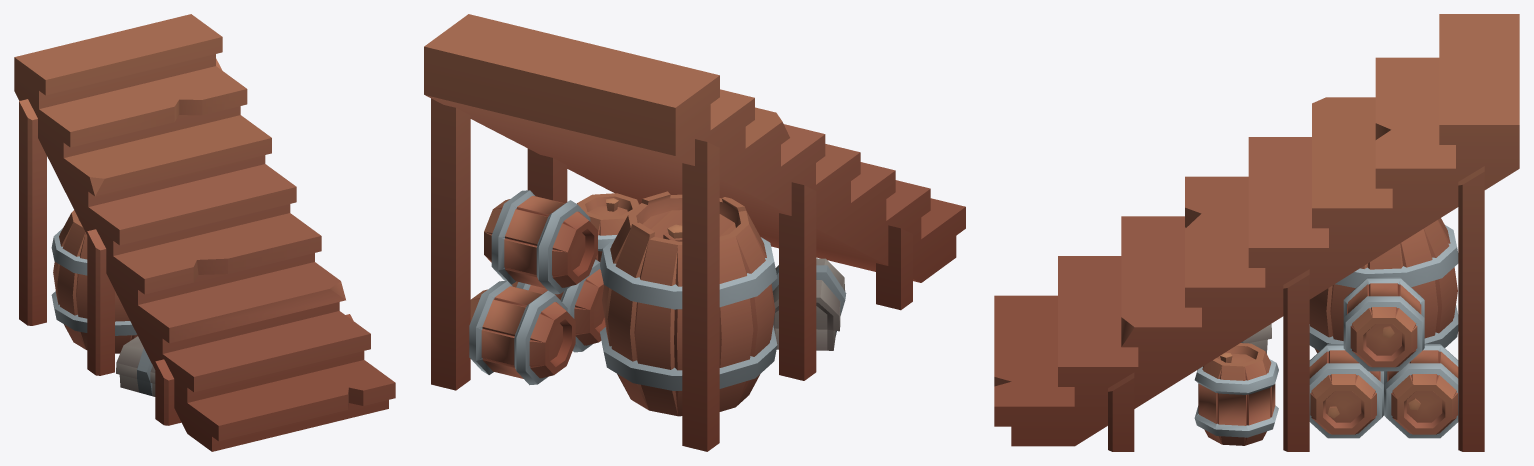
Rendered from stairs_wood_decorated.gltf.
3 views of the same model, side by side, from view 1: azimuth 30°, elevation 25°; view 2: azimuth 150°, elevation 25°; view 3: azimuth 270°, elevation 25° (orthographic). The views are drawn at different scales.
Visible parts, largest first — view 1: stairs_wood_decorated; view 2: stairs_wood_decorated; view 3: stairs_wood_decorated.
Part boxes in pixels (x1,y1,x2,y2): stairs_wood_decorated: (14,14,395,451); stairs_wood_decorated: (424,14,965,451); stairs_wood_decorated: (994,14,1519,451).
Size of the model in its own units: 3.3 by 4.05 by 6.
Materials: 1 (1 with a texture image).
